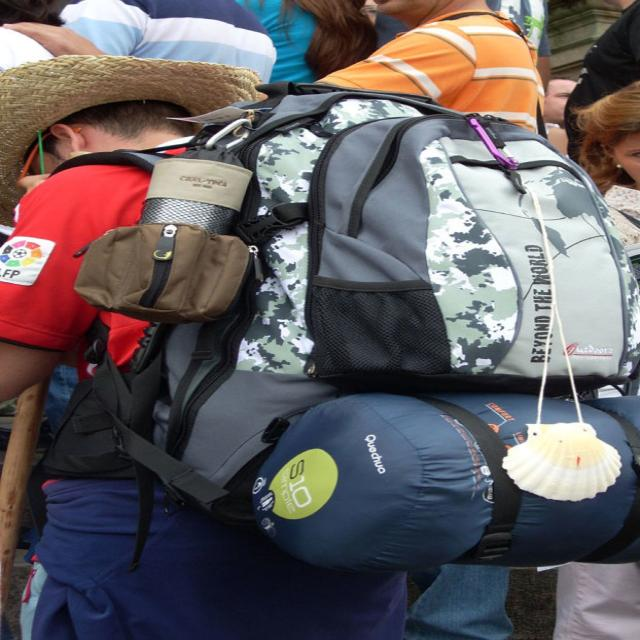backpack: (42, 90, 639, 572)
